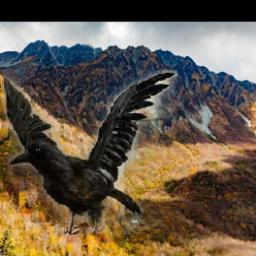Crow: (2, 71, 178, 235)
